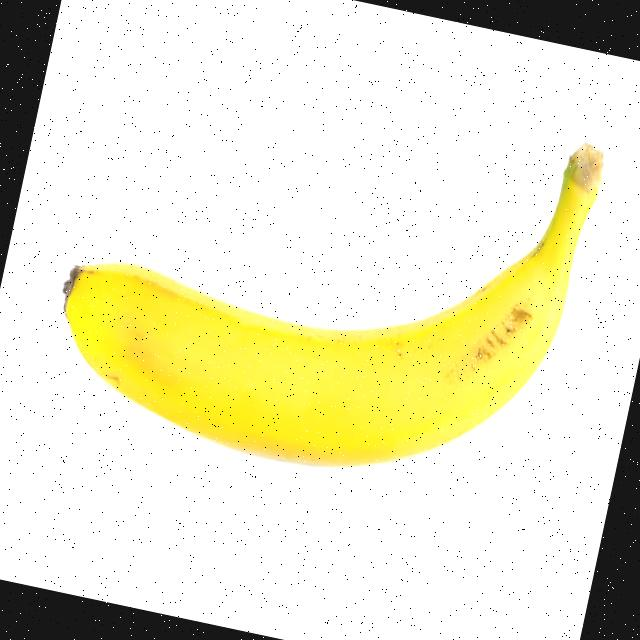Ripe: (37, 39, 608, 518)
